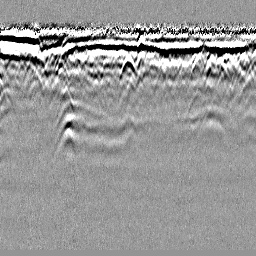cavity: (118, 53, 137, 79)
